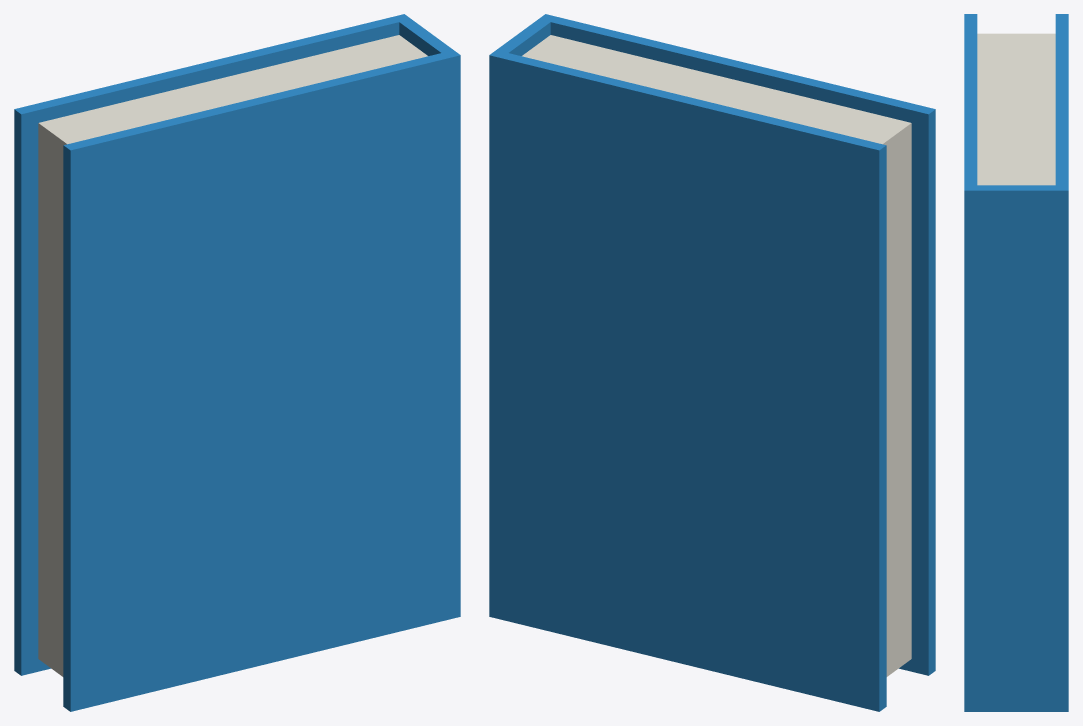
File: book_d2.glb
The picture shows the model from 3 angles, left to right: view 1: azimuth 30°, elevation 25°; view 2: azimuth 150°, elevation 25°; view 3: azimuth 270°, elevation 25°; orthographic projection. The views are drawn at different scales.
Parts seen in each view (by area): view 1: book_d2_bottom_cover_blue_slab.001, book_d2_pages_cream_block.001, book_d2_top_cover_blue_slab.001, book_d2_spine_blue_slab.001; view 2: book_d2_top_cover_blue_slab.001, book_d2_pages_cream_block.001, book_d2_bottom_cover_blue_slab.001, book_d2_spine_blue_slab.001; view 3: book_d2_spine_blue_slab.001, book_d2_pages_cream_block.001, book_d2_bottom_cover_blue_slab.001, book_d2_top_cover_blue_slab.001.
Boxes of the visible parts, box(x1,y1,x2,y2) form: book_d2_bottom_cover_blue_slab.001: box(63, 50, 460, 711); book_d2_pages_cream_block.001: box(38, 35, 427, 676); book_d2_top_cover_blue_slab.001: box(14, 15, 410, 675); book_d2_spine_blue_slab.001: box(393, 14, 460, 609); book_d2_top_cover_blue_slab.001: box(489, 50, 886, 711); book_d2_pages_cream_block.001: box(522, 35, 911, 676); book_d2_bottom_cover_blue_slab.001: box(539, 14, 935, 675); book_d2_spine_blue_slab.001: box(489, 14, 556, 618); book_d2_spine_blue_slab.001: box(964, 185, 1068, 711); book_d2_pages_cream_block.001: box(977, 33, 1055, 185); book_d2_bottom_cover_blue_slab.001: box(964, 14, 977, 711); book_d2_top_cover_blue_slab.001: box(1055, 14, 1068, 711).
Bounding box in the file's own units: 0.16 × 0.22 × 0.04.
